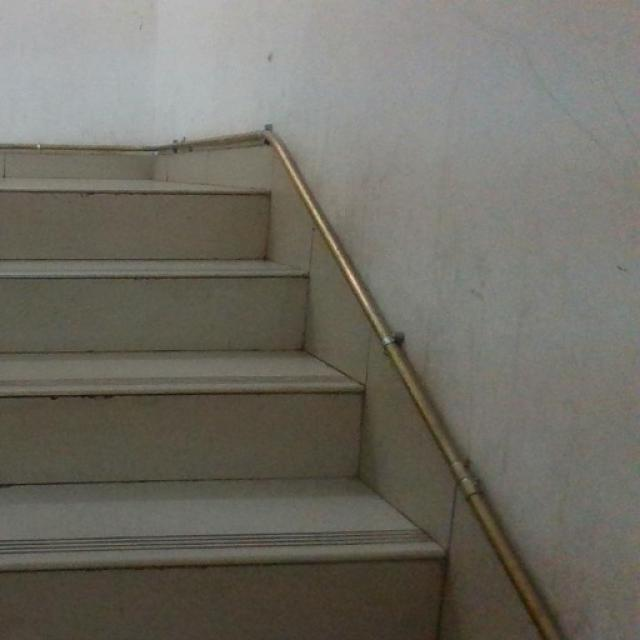stair: (0, 172, 430, 604)
